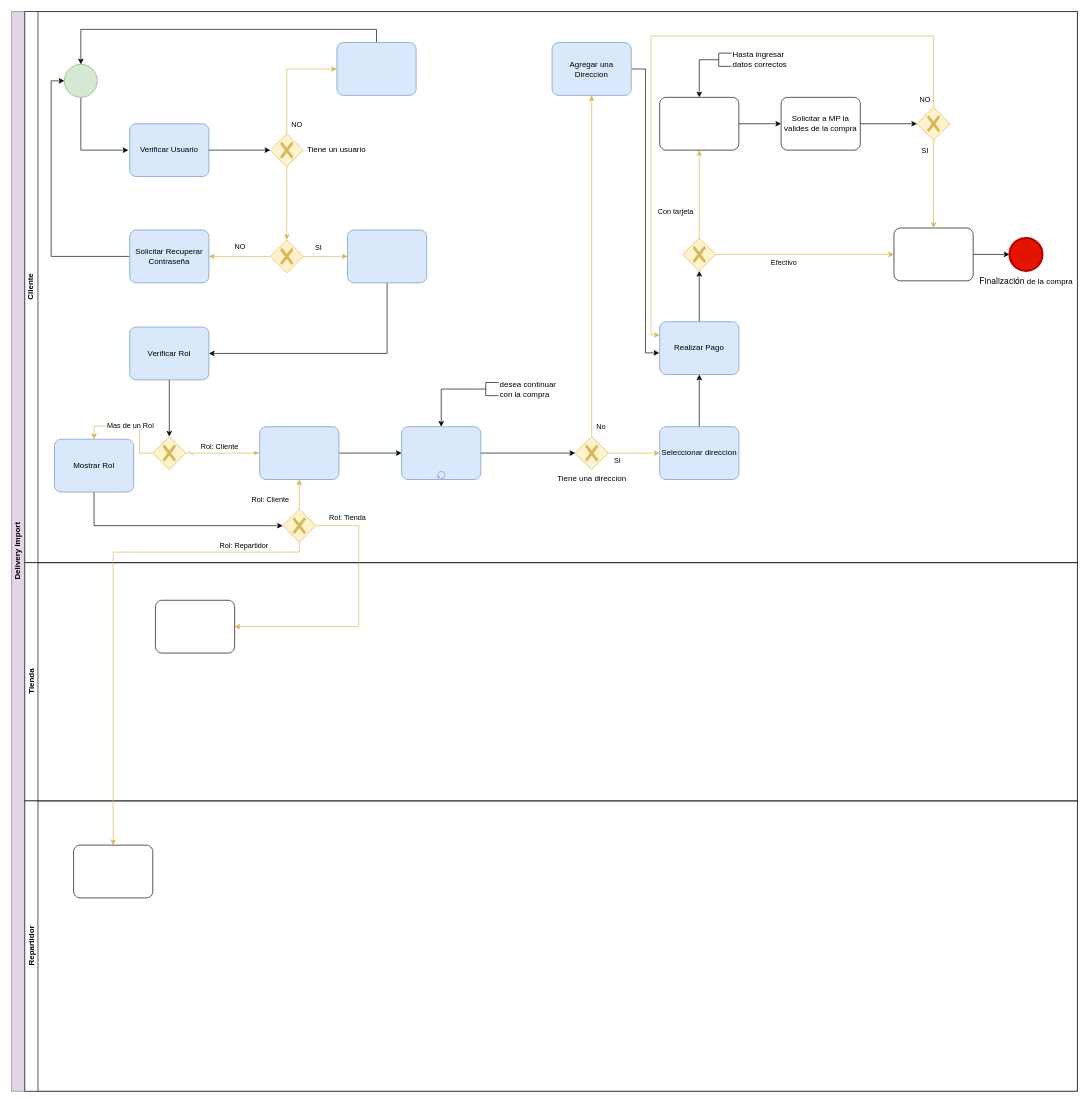
Image size: 1089x1103. Some labels were removed from this diagram. The shapes that lost their labels are listed below. From the top down, each one's centre as x and y in pixels, then its label:
[80,80]: Login
[376,68]: Registrar Usuario
[699,123]: Ingresar Datos de la tarjeta
[933,123]: Compra exitosa
[286,256]: Ingreso Credenciales correctas
[387,256]: Acceder a la App
[933,254]: Terminar la compra
[299,452]: Mostrar Productos por categoria
[441,452]: Agregar Productos al carrito
